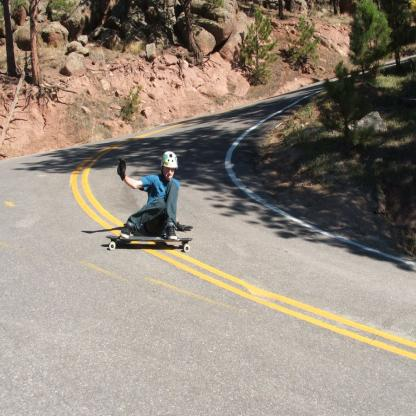Helmet: (160, 150, 177, 180)
